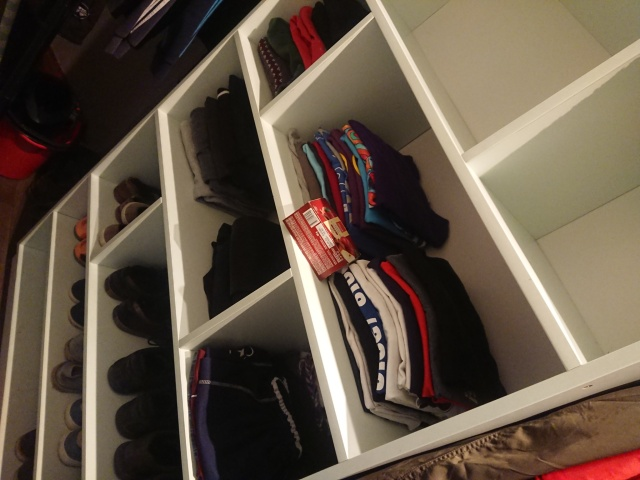Franck Apple Cinnamon Tea 60g: (280, 195, 363, 282)
